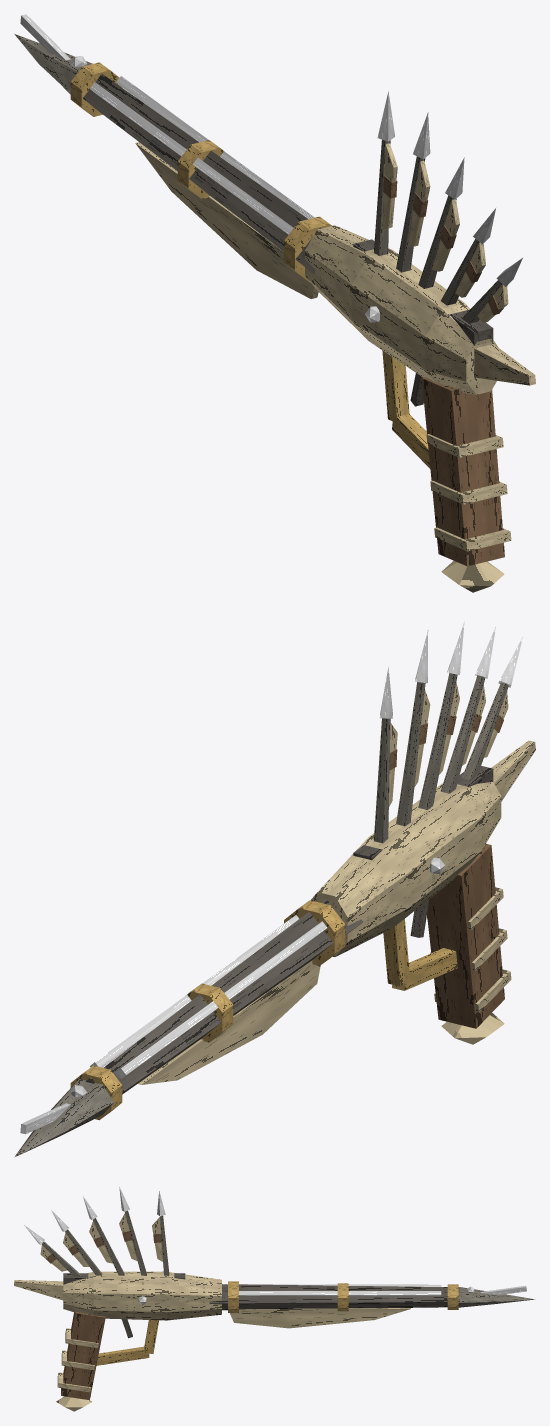
Rendered from weapon_quill.gltf.
3 views of the same model, one above another, from view 1: azimuth 30°, elevation 25°; view 2: azimuth 150°, elevation 25°; view 3: azimuth 270°, elevation 25° (orthographic). The views are drawn at different scales.
Visible parts, largest first — view 1: body, channel, quill_1, quill_0, quill_2, quill_3, quill_4; view 2: body, channel, quill_1, quill_2, quill_0, quill_3, quill_4; view 3: body, channel, quill_1, quill_2, quill_0, quill_3, quill_4.
Boxes of the visible parts, bbox=[...] form: body: bbox=[14, 34, 535, 592]; channel: bbox=[20, 14, 379, 322]; quill_1: bbox=[396, 156, 430, 272]; quill_0: bbox=[373, 139, 397, 255]; quill_2: bbox=[418, 195, 459, 288]; quill_3: bbox=[441, 239, 485, 305]; quill_4: bbox=[462, 280, 508, 323]; body: bbox=[14, 740, 535, 1157]; channel: bbox=[20, 857, 444, 1134]; quill_1: bbox=[396, 682, 430, 826]; quill_2: bbox=[418, 673, 459, 809]; quill_0: bbox=[374, 718, 397, 843]; quill_3: bbox=[440, 675, 485, 793]; quill_4: bbox=[462, 682, 508, 780]; body: bbox=[14, 1271, 535, 1411]; channel: bbox=[138, 1284, 526, 1304]; quill_1: bbox=[119, 1210, 146, 1275]; quill_2: bbox=[89, 1218, 124, 1275]; quill_0: bbox=[152, 1215, 169, 1275]; quill_3: bbox=[63, 1229, 102, 1275]; quill_4: bbox=[40, 1241, 80, 1276].
Size of the model in its own units: 0.0716 by 0.4077 by 0.8557.
12 materials, 12 textured.
